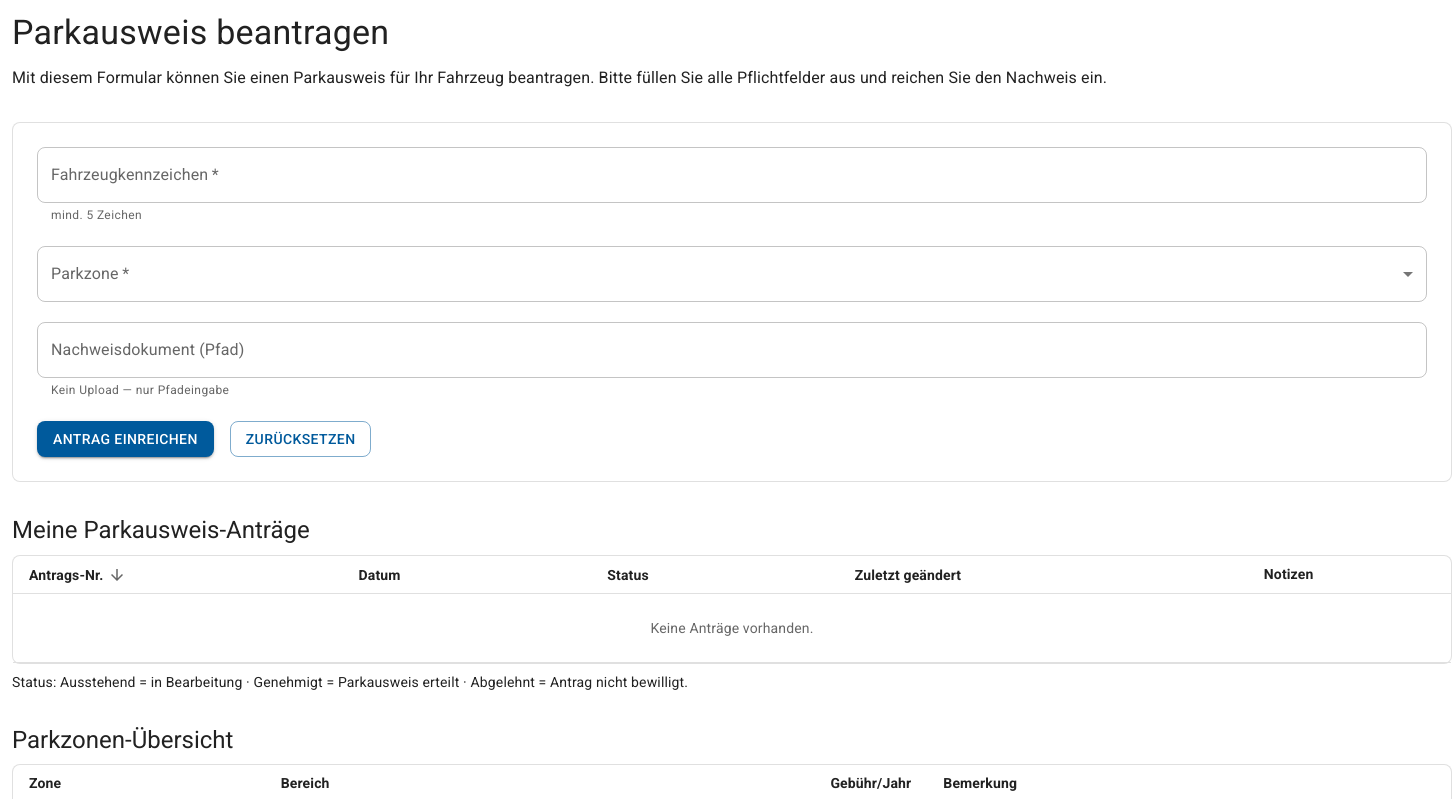
it: ParkingPermitPage › validates required fields with legacy messages
The image size is (1452, 799).
Type "M-1" into the field labelled "Fahrzeugkennzeichen *" at [732, 175], box [37,147,1427,203]
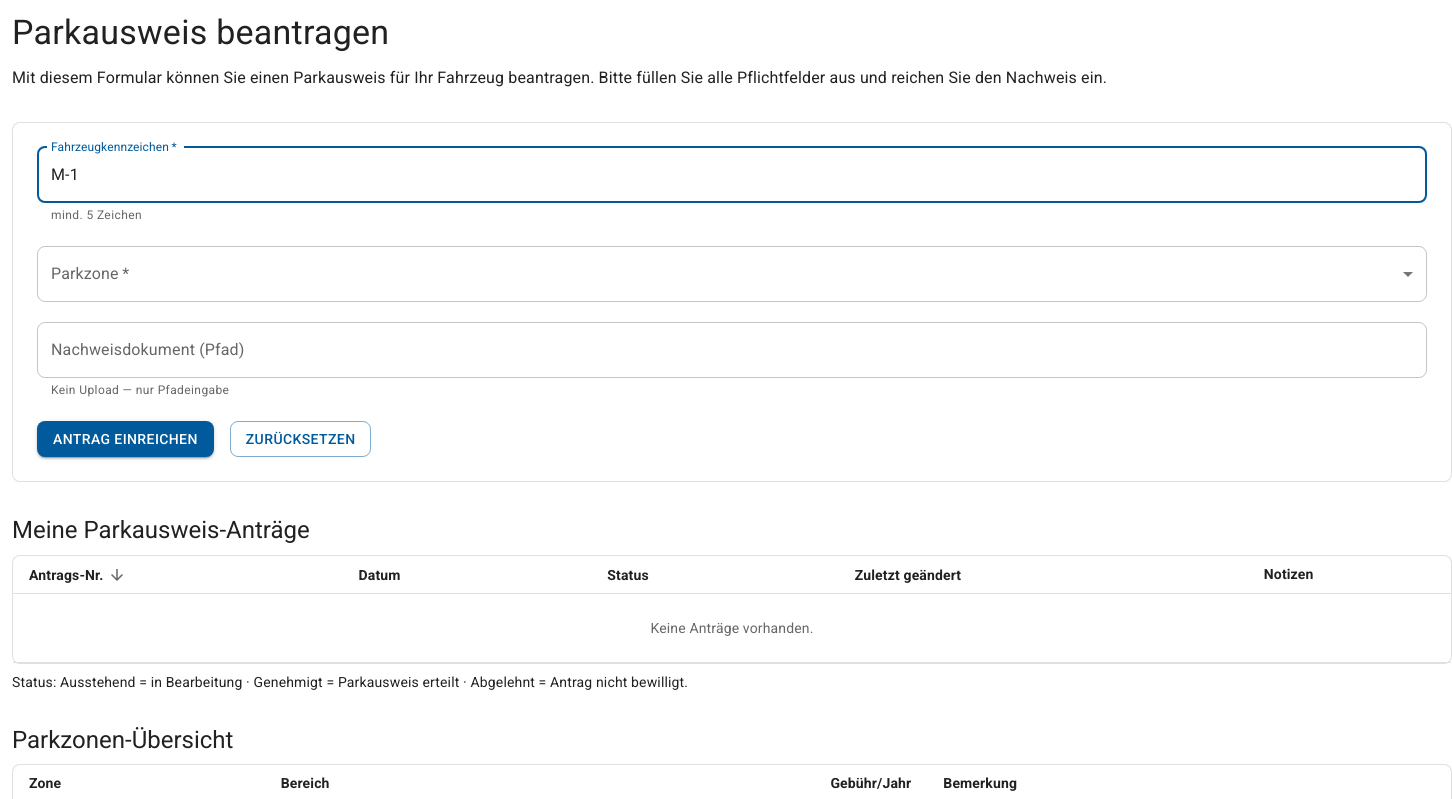
Click the button "Antrag einreichen" at [125, 439], box [37,421,214,457]
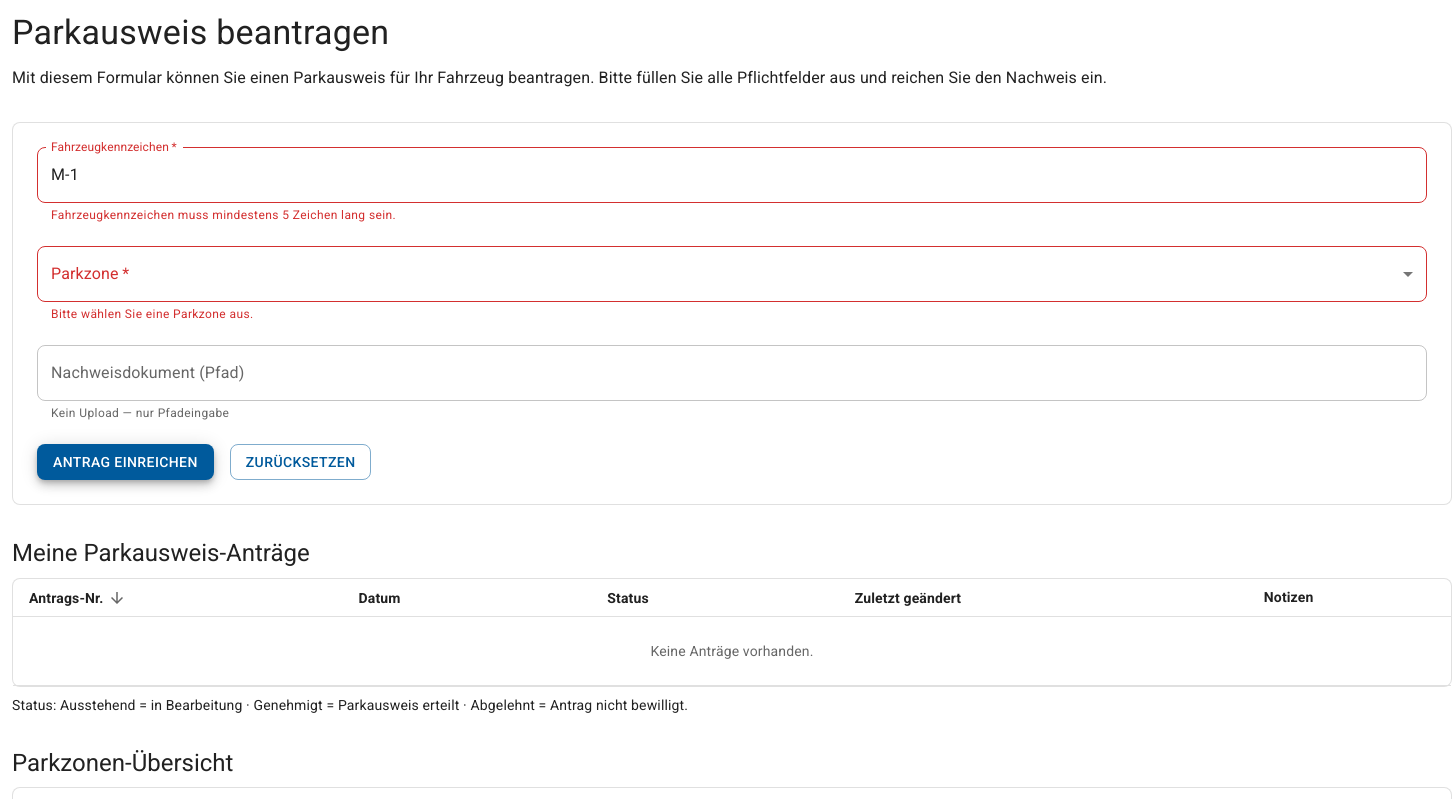
Check: the text "Fahrzeugkennzeichen muss mindestens 5 Zeichen lang sein." is shown, box [51,208,396,222]
Check: the text "Bitte wählen Sie eine Parkzone aus." is shown, box [51,307,254,321]
